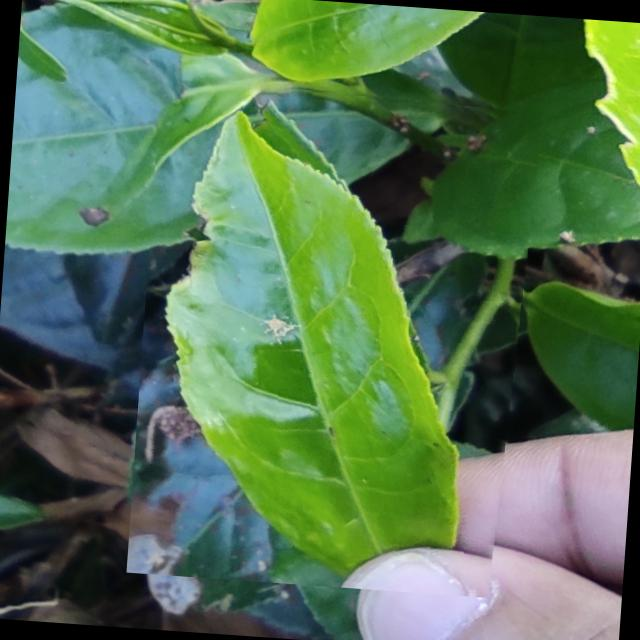Category C 4-7 days: (126, 74, 544, 598)
